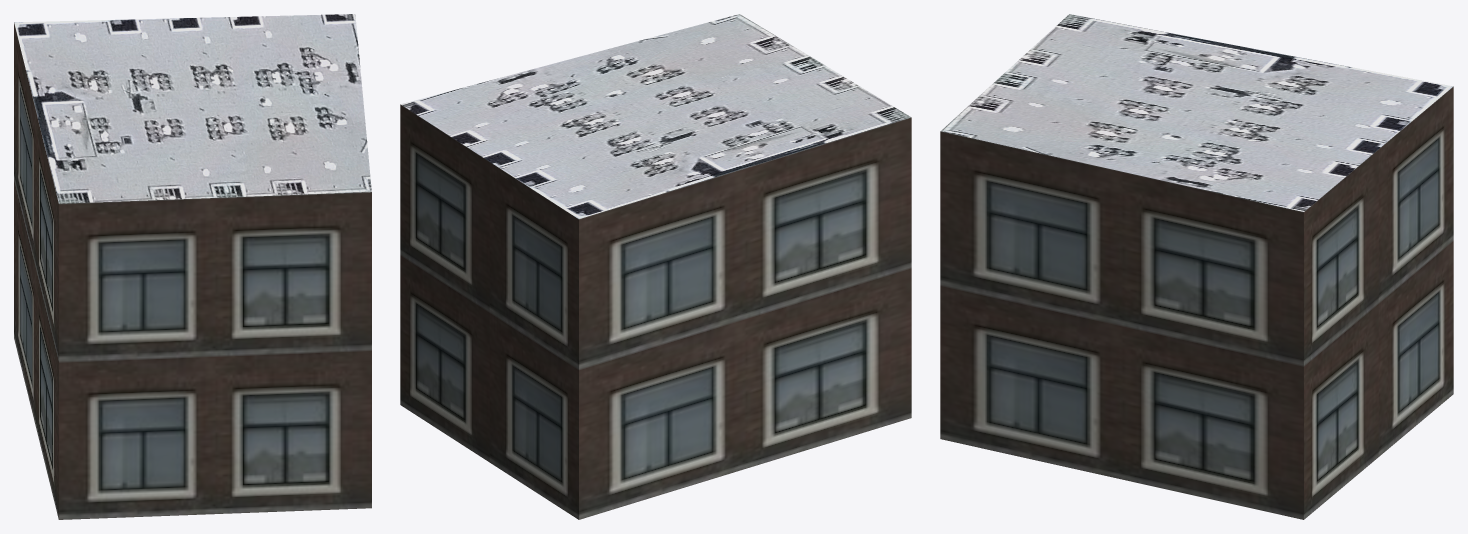
File: ResTex__3253.fbx
3 renders of one model, left to right at view 1: azimuth 30°, elevation 25°; view 2: azimuth 150°, elevation 25°; view 3: azimuth 270°, elevation 25°, orthographic. The views are drawn at different scales.
Parts seen in each view (by area): view 1: CityEngineMaterial_16_m, CityEngineMaterial_15_m; view 2: CityEngineMaterial_16_m, CityEngineMaterial_15_m; view 3: CityEngineMaterial_16_m, CityEngineMaterial_15_m.
Boxes of the visible parts, bbox=[...] form: CityEngineMaterial_16_m: bbox=[14, 22, 371, 519]; CityEngineMaterial_15_m: bbox=[14, 14, 371, 203]; CityEngineMaterial_16_m: bbox=[400, 104, 911, 519]; CityEngineMaterial_15_m: bbox=[401, 14, 910, 218]; CityEngineMaterial_16_m: bbox=[940, 86, 1453, 519]; CityEngineMaterial_15_m: bbox=[941, 14, 1452, 211].
Bounding box in the file's own units: 8.28 × 6 × 9.06.
Materials: 2 (2 with a texture image).
